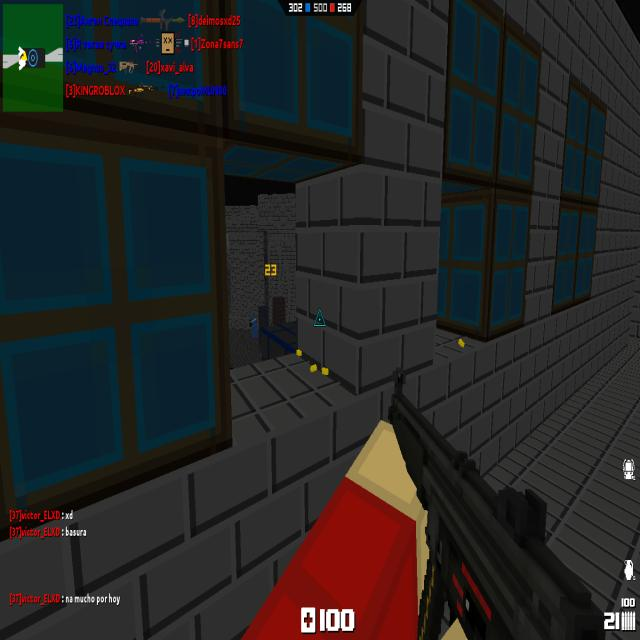enemy: (249, 314, 259, 341)
